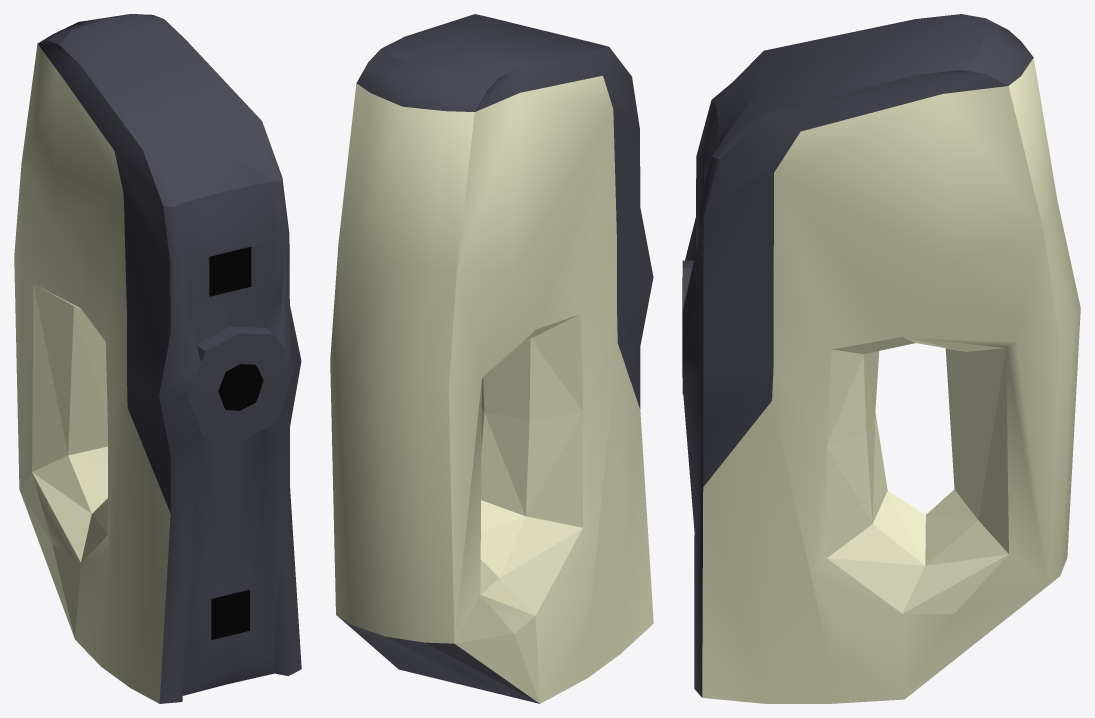
Rendered from 3D_Scanner.FBX.
3 renders of one model, left to right at view 1: azimuth 30°, elevation 25°; view 2: azimuth 150°, elevation 25°; view 3: azimuth 270°, elevation 25°, orthographic. The views are drawn at different scales.
Parts seen in each view (by area): view 1: Box003; view 2: Box003; view 3: Box003.
Part boxes in pixels (left/top/right/bottom): Box003: left=14, top=14, right=301, bottom=703; Box003: left=330, top=14, right=653, bottom=703; Box003: left=682, top=14, right=1080, bottom=703.
Size of the model in its own units: 7.52 by 29.25 by 16.73.
